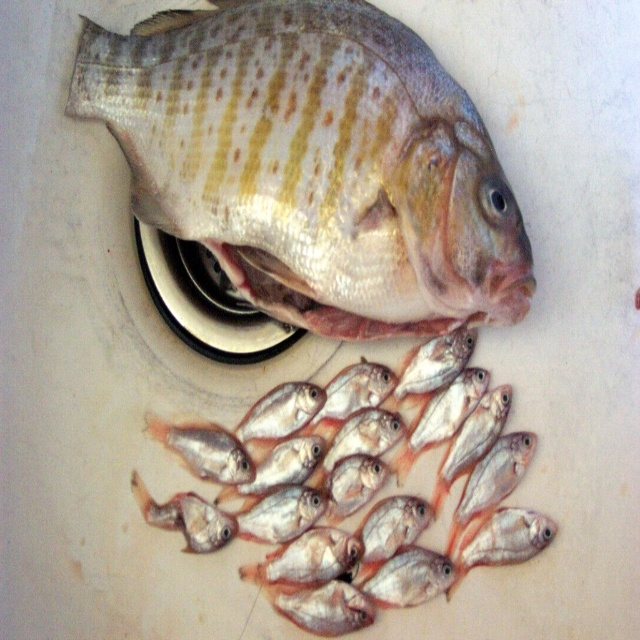Fish: (64, 0, 558, 638), (128, 335, 560, 640)
